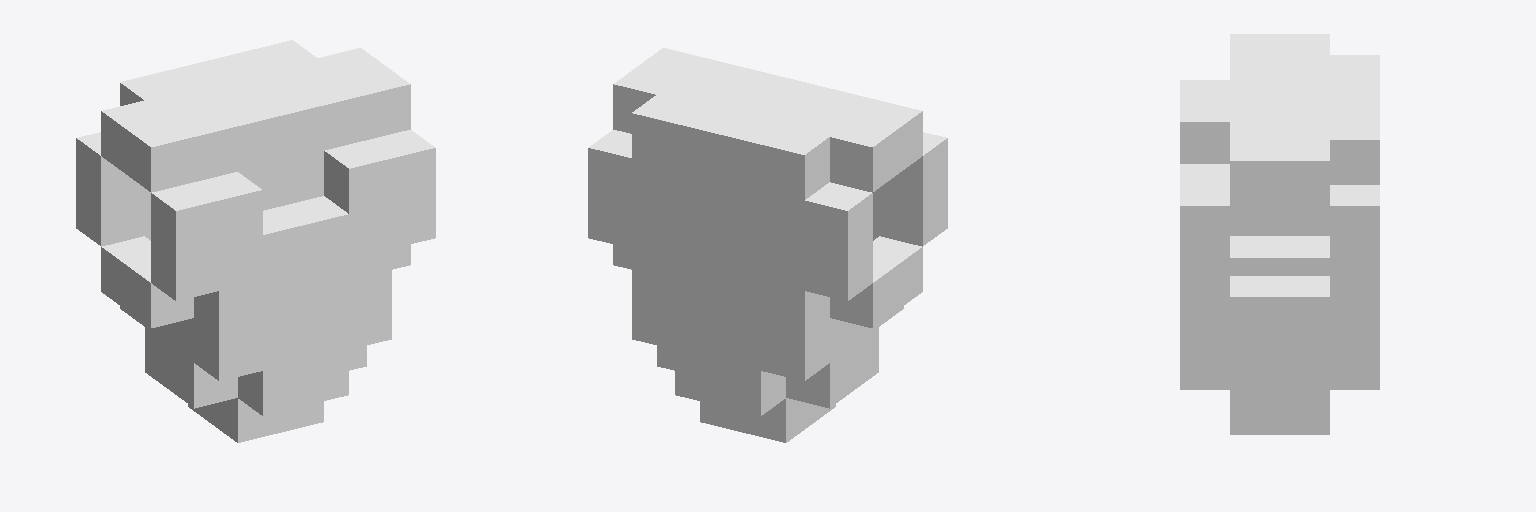
The model's file is piratebody.obj.
3 views of the same model, side by side, from view 1: azimuth 30°, elevation 25°; view 2: azimuth 150°, elevation 25°; view 3: azimuth 270°, elevation 25° (orthographic).
Visible parts, largest first — view 1: object 1; view 2: object 1; view 3: object 1.
Part boxes in pixels (bbox=[...]): object 1: bbox=[76, 40, 435, 442]; object 1: bbox=[588, 48, 947, 442]; object 1: bbox=[1180, 34, 1379, 434].
Bounding box in the file's own units: 0.6 × 0.7 × 0.4.